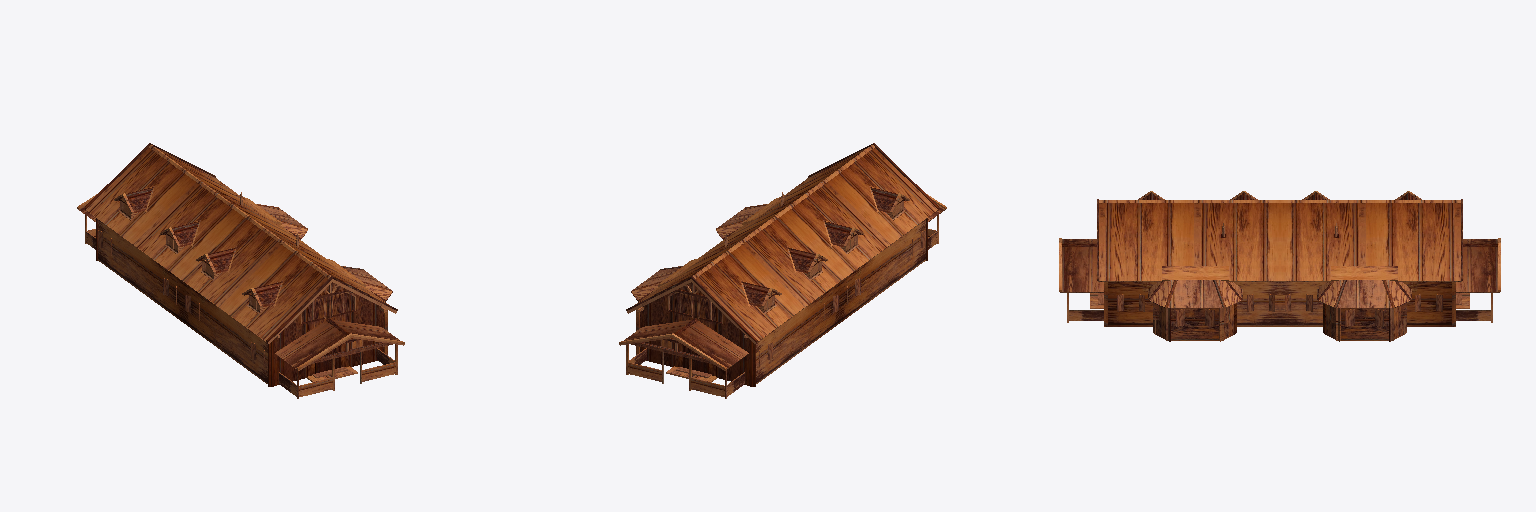
3 views of the same model, side by side, from view 1: azimuth 30°, elevation 25°; view 2: azimuth 150°, elevation 25°; view 3: azimuth 270°, elevation 25° (orthographic).
Parts seen in each view (by area): view 1: City_building_014_Untitled.028; view 2: City_building_014_Untitled.028; view 3: City_building_014_Untitled.028.
Part boxes in pixels (left/top/right/bottom): City_building_014_Untitled.028: left=77, top=143, right=404, bottom=398; City_building_014_Untitled.028: left=619, top=143, right=946, bottom=398; City_building_014_Untitled.028: left=1059, top=191, right=1500, bottom=341.
Size of the model in its own units: 9.91 by 5.91 by 23.79.
Materials: 1 (1 with a texture image).